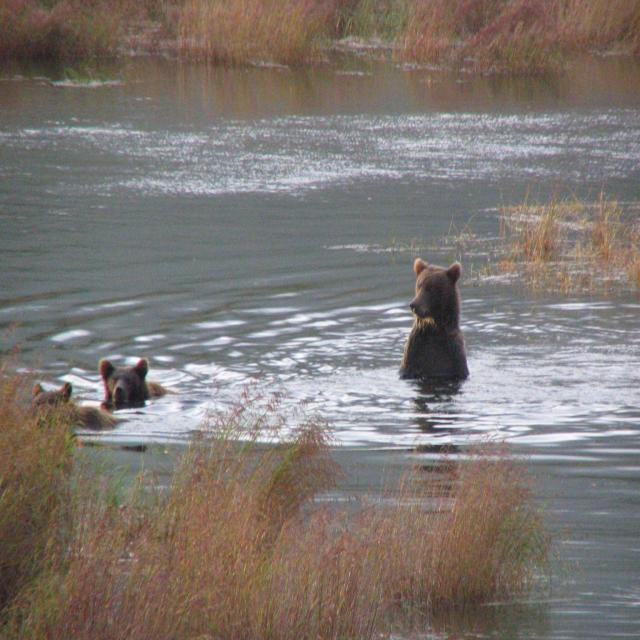bear face: (404, 259, 469, 378), (35, 381, 119, 427), (99, 359, 165, 405)
